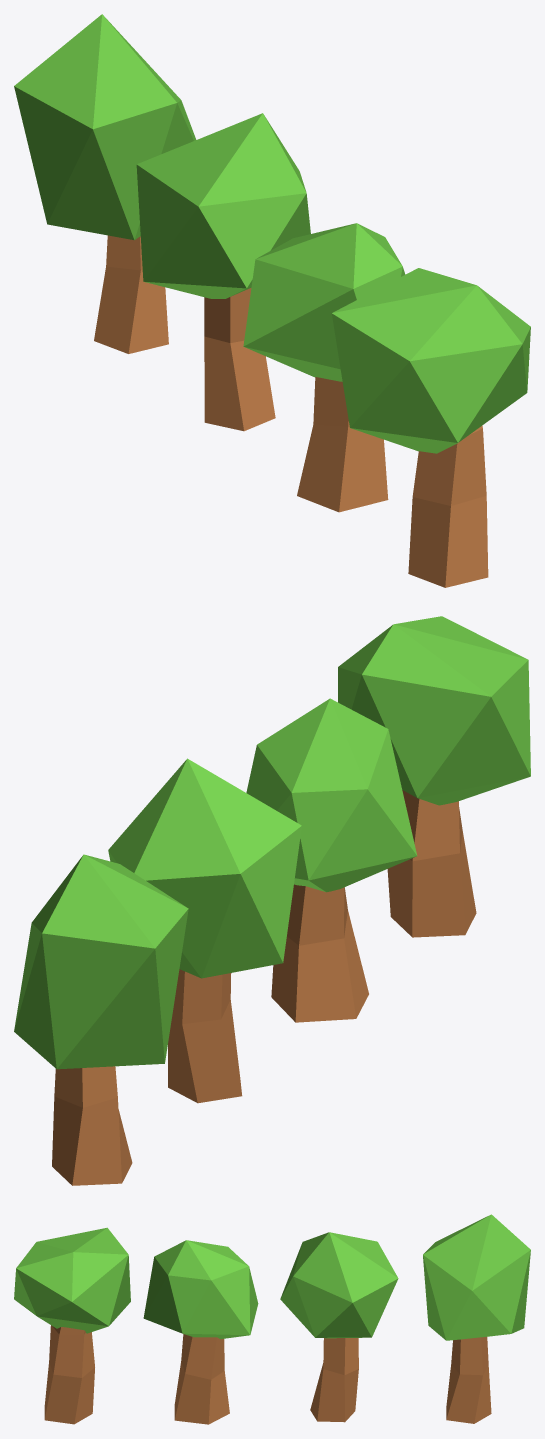
The model's file is trees_low_poly.dae.
The picture shows the model from 3 angles, top to bottom: view 1: azimuth 30°, elevation 25°; view 2: azimuth 150°, elevation 25°; view 3: azimuth 270°, elevation 25°; orthographic projection. The views are drawn at different scales.
Parts seen in each view (by area): view 1: Tree1, Tree4, Tree3, Tree2; view 2: Tree4, Tree1, Tree3, Tree2; view 3: Tree4, Tree1, Tree2, Tree3.
Part boxes in pixels (box(x1,y1,x2,y2)): Tree1: box(331, 268, 530, 587); Tree4: box(14, 14, 196, 353); Tree3: box(136, 113, 310, 431); Tree2: box(243, 223, 405, 512); Tree4: box(14, 854, 188, 1185); Tree1: box(338, 616, 530, 937); Tree3: box(108, 758, 301, 1103); Tree2: box(246, 698, 417, 1022); Tree4: box(423, 1214, 530, 1423); Tree1: box(14, 1227, 130, 1424); Tree2: box(143, 1240, 258, 1424); Tree3: box(280, 1232, 398, 1422).
Bounding box in the file's own units: 4.94 × 19.42 × 8.14.
